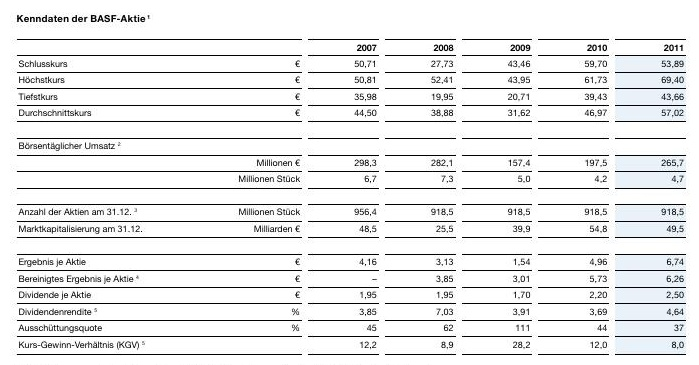table: (0, 0, 699, 365)
